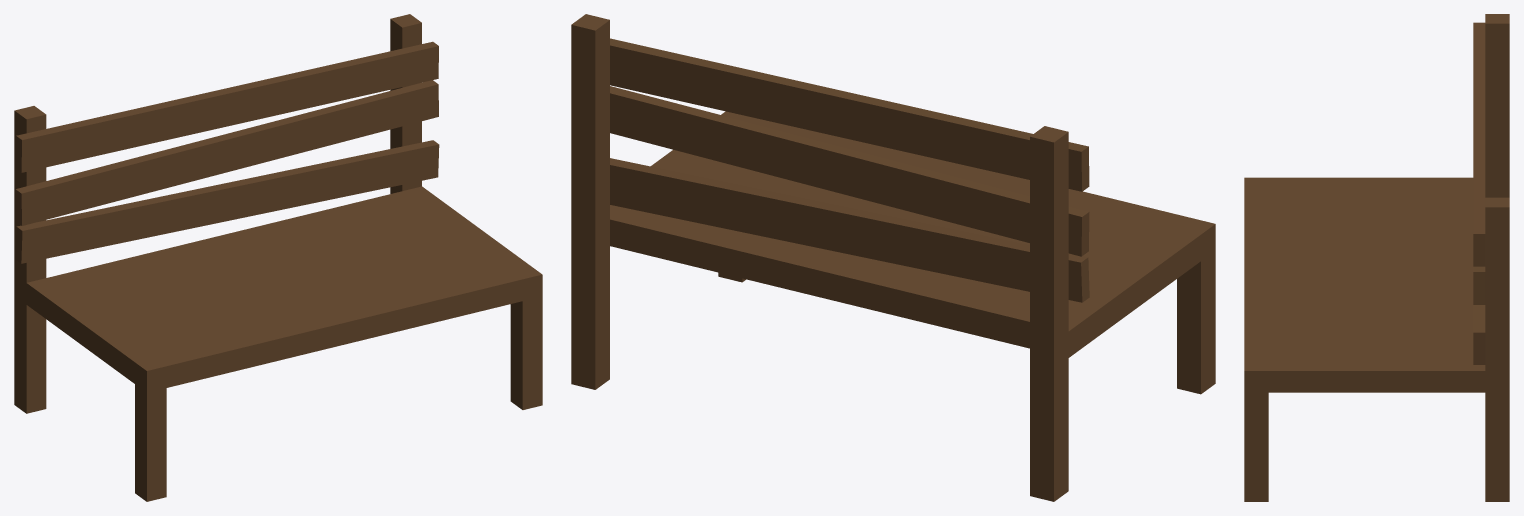
The model's file is egypt_egypt-market-table.fbx.
3 views of the same model, side by side, from view 1: azimuth 30°, elevation 25°; view 2: azimuth 150°, elevation 25°; view 3: azimuth 270°, elevation 25° (orthographic). The views are drawn at different scales.
Visible parts, largest first — view 1: egypt_egypt_market_table; view 2: egypt_egypt_market_table; view 3: egypt_egypt_market_table.
Boxes of the visible parts, x1,y1,x2,y2 form: egypt_egypt_market_table: [14, 14, 542, 501]; egypt_egypt_market_table: [571, 14, 1215, 501]; egypt_egypt_market_table: [1244, 14, 1509, 501].
Bounding box in the file's own units: 200 × 135 × 110.
